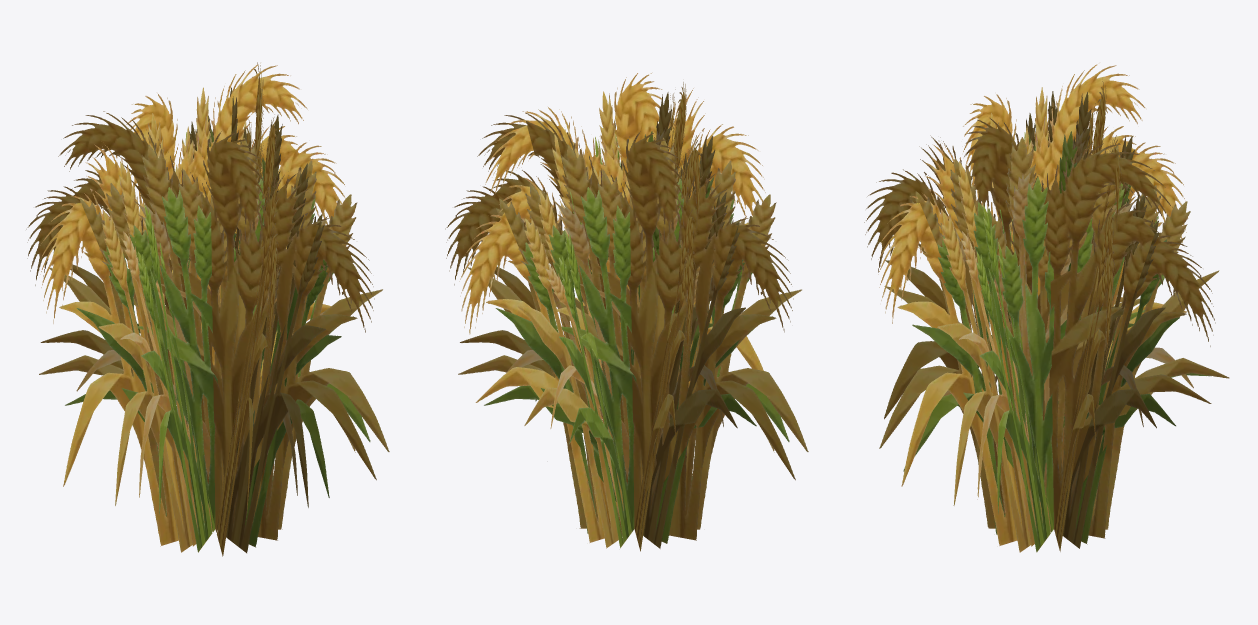
The model's file is trigo.glb.
3 views of the same model, side by side, from view 1: azimuth 30°, elevation 25°; view 2: azimuth 150°, elevation 25°; view 3: azimuth 270°, elevation 25° (orthographic).
Visible parts, largest first — view 1: Trigo_Cheio, Trigo_Maduro, Trigo_Verde, Trigo_Ralo; view 2: Trigo_Cheio, Trigo_Maduro, Trigo_Verde, Trigo_Ralo; view 3: Trigo_Cheio, Trigo_Maduro, Trigo_Verde, Trigo_Ralo.
Boxes of the visible parts, x1=… form: Trigo_Cheio: x1=26, y1=62, x2=376, y2=556; Trigo_Maduro: x1=39, y1=87, x2=389, y2=553; Trigo_Verde: x1=65, y1=129, x2=370, y2=552; Trigo_Ralo: x1=76, y1=142, x2=355, y2=546; Trigo_Cheio: x1=445, y1=72, x2=795, y2=551; Trigo_Maduro: x1=458, y1=91, x2=808, y2=548; Trigo_Verde: x1=484, y1=131, x2=789, y2=548; Trigo_Ralo: x1=506, y1=127, x2=774, y2=521; Trigo_Cheio: x1=864, y1=64, x2=1215, y2=551; Trigo_Maduro: x1=879, y1=87, x2=1229, y2=552; Trigo_Verde: x1=903, y1=131, x2=1211, y2=552; Trigo_Ralo: x1=937, y1=128, x2=1193, y2=546.
Bounding box in the file's own units: 0.8882 × 1.07 × 0.8828.
1 material, 1 textured.
